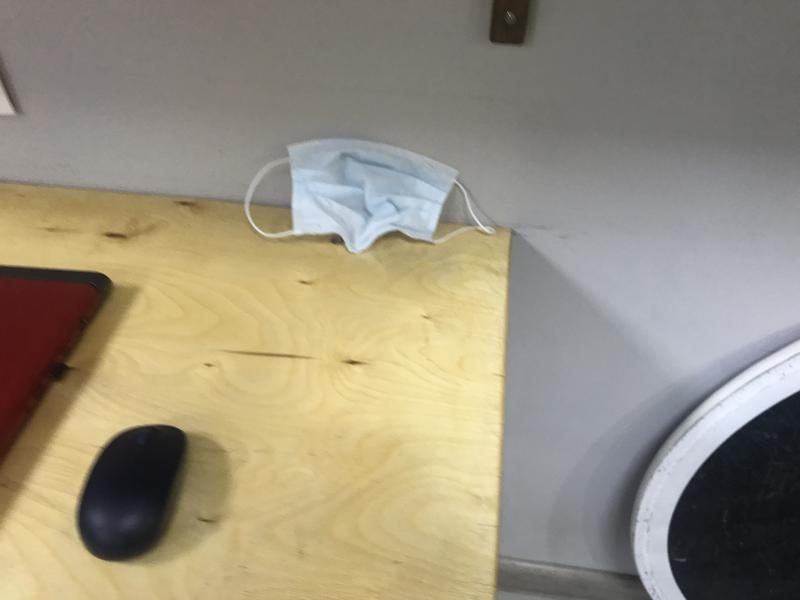medical_mask: (245, 138, 495, 252)
